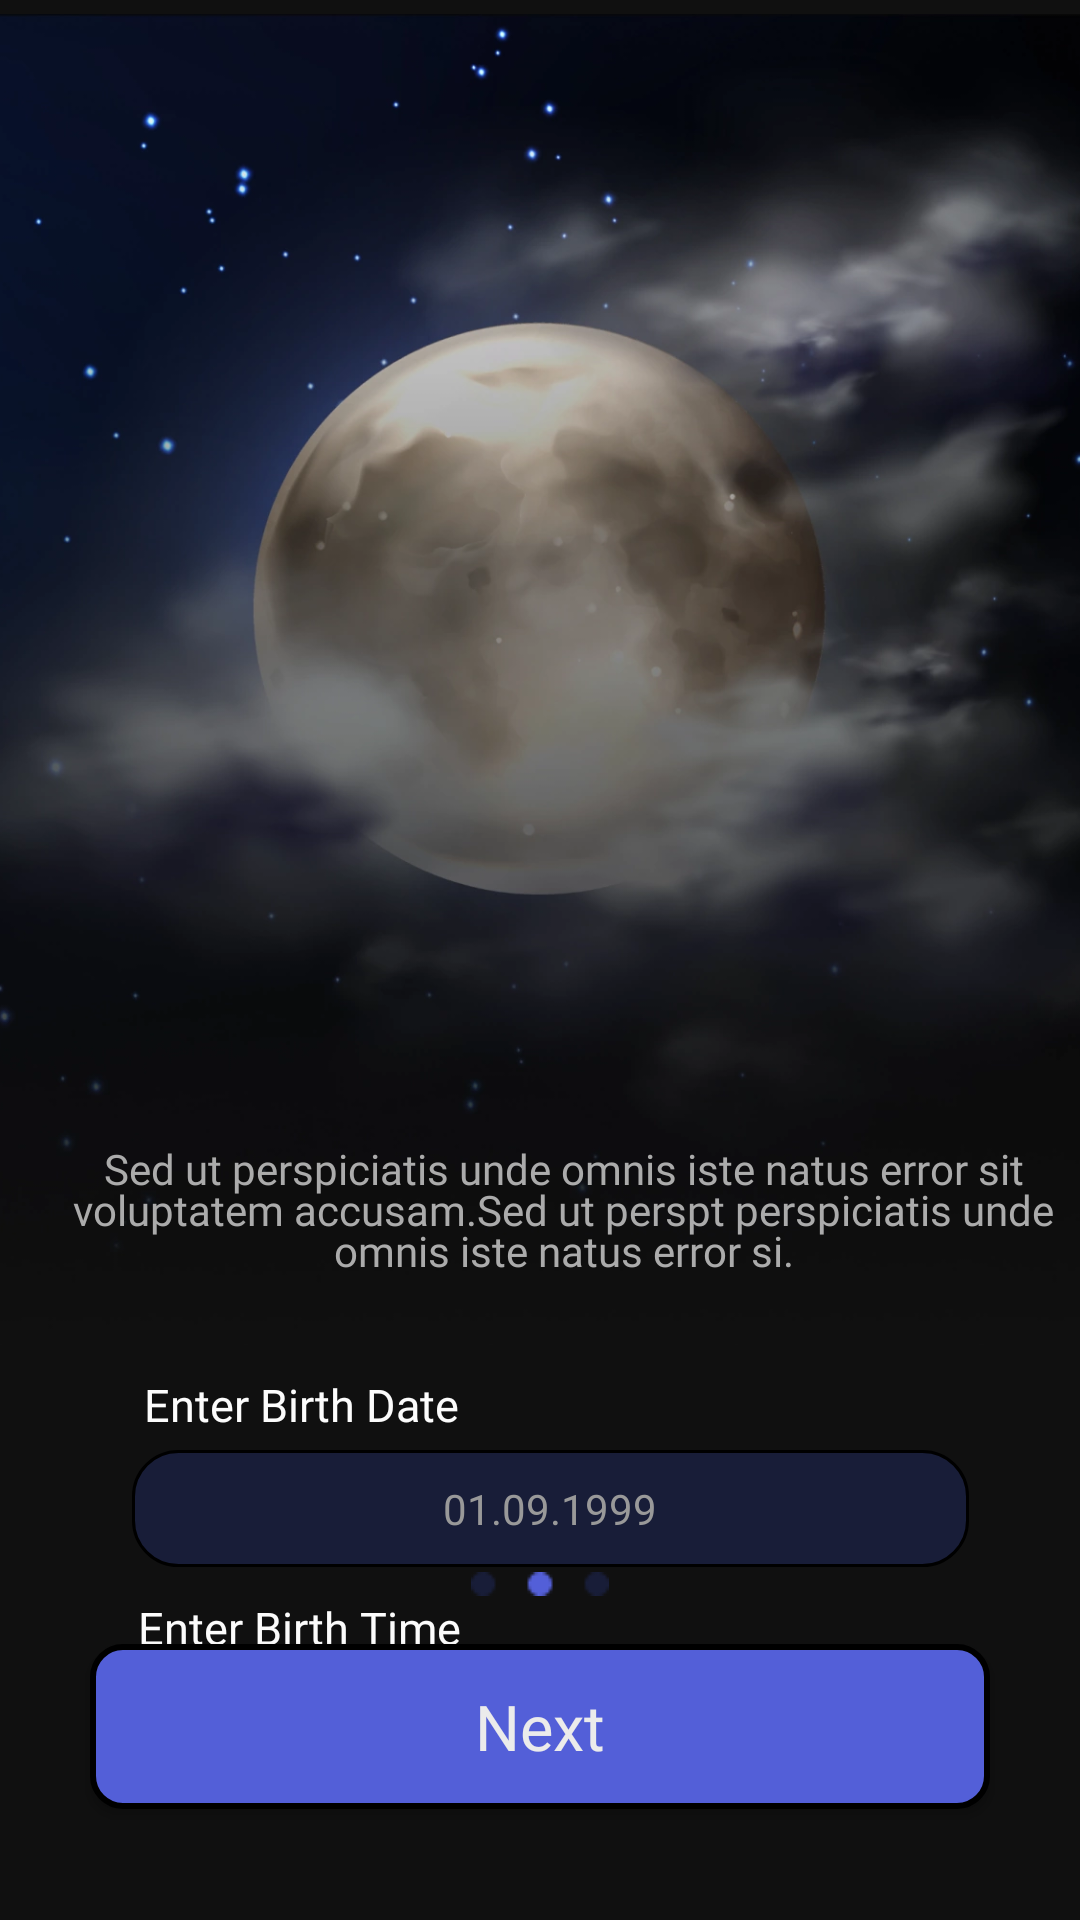

Screen size 1080px×1920px. Icon name, then its center in pixels as point (x, y):
indicator: point (540, 1584)
